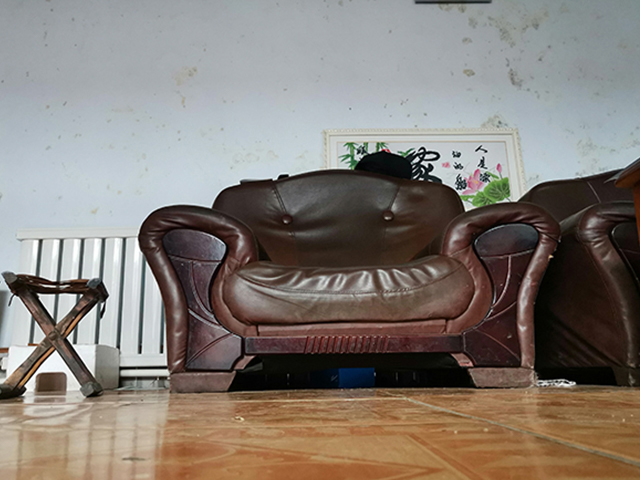sofa: (136, 166, 640, 394)
stool: (1, 270, 111, 399)
